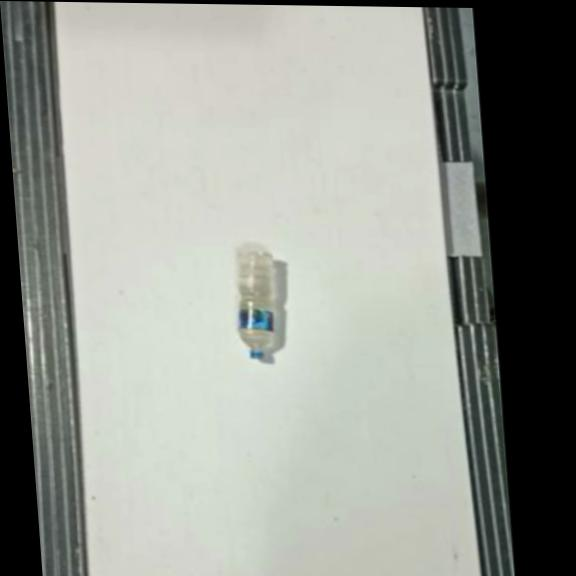Plastik: (231, 244, 281, 359)
